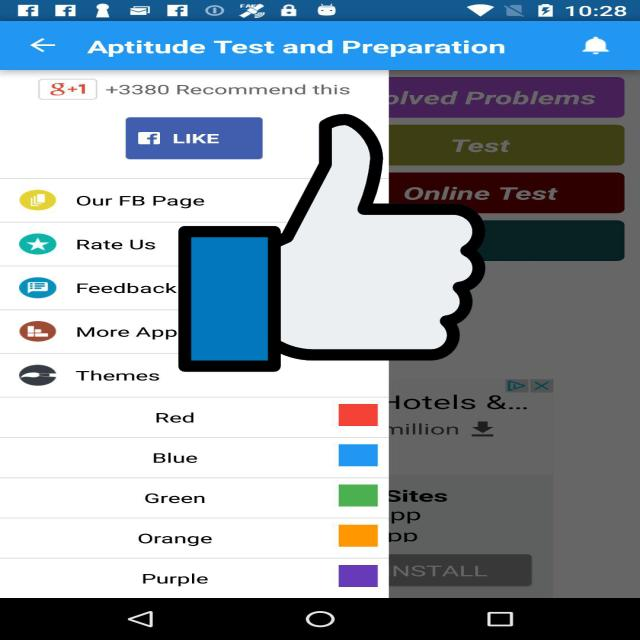privacy zuckering: (178, 109, 486, 378)
